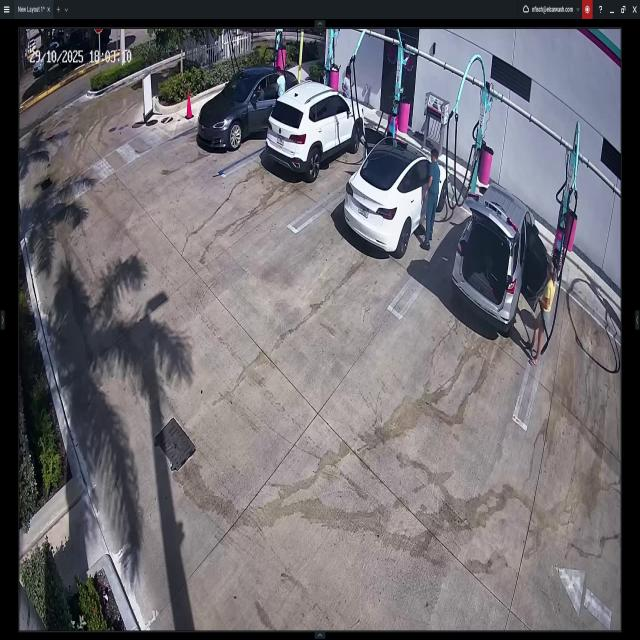Car: (445, 180, 540, 332), (344, 134, 446, 262), (262, 86, 362, 179), (200, 65, 298, 147)
